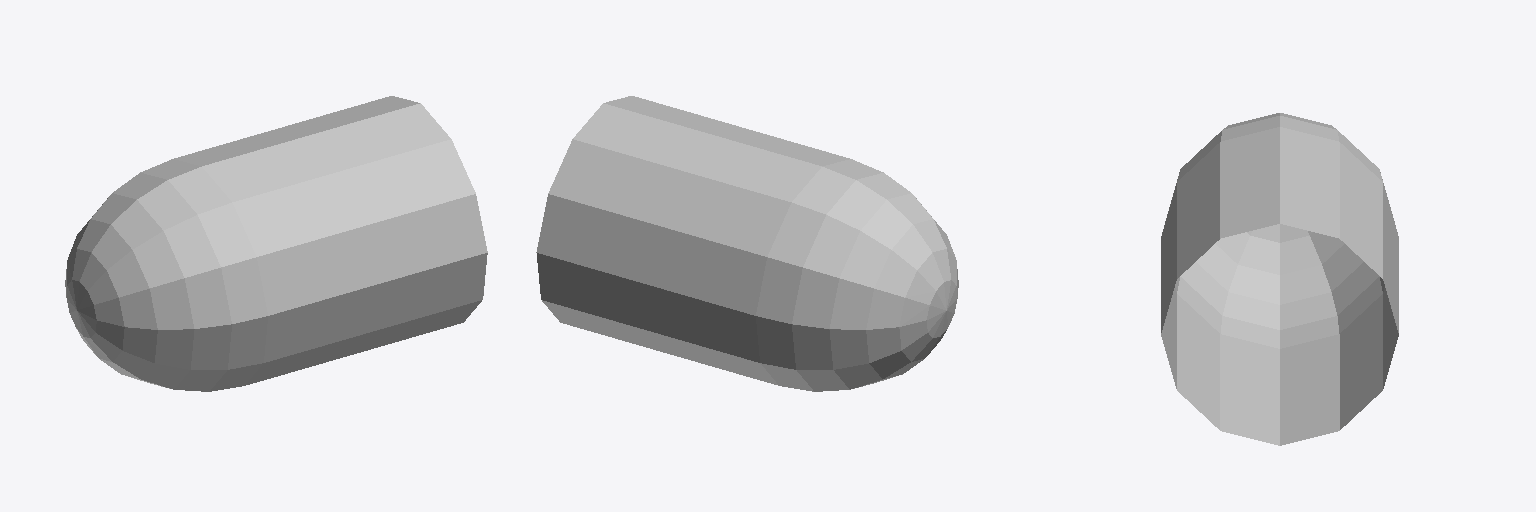
Rendered from leftbicep.obj.
The picture shows the model from 3 angles: view 1: azimuth 30°, elevation 25°; view 2: azimuth 150°, elevation 25°; view 3: azimuth 270°, elevation 25°; orthographic projection.
Parts seen in each view (by area): view 1: polySurface6 polySurface1 AndroidRobot:Mesh; view 2: polySurface6 polySurface1 AndroidRobot:Mesh; view 3: polySurface6 polySurface1 AndroidRobot:Mesh.
Part boxes in pixels (bbox=[...]): polySurface6 polySurface1 AndroidRobot:Mesh: bbox=[65, 96, 487, 391]; polySurface6 polySurface1 AndroidRobot:Mesh: bbox=[536, 96, 958, 391]; polySurface6 polySurface1 AndroidRobot:Mesh: bbox=[1161, 113, 1398, 445].
Size of the model in its own units: 1.09 by 0.6588 by 0.6308.